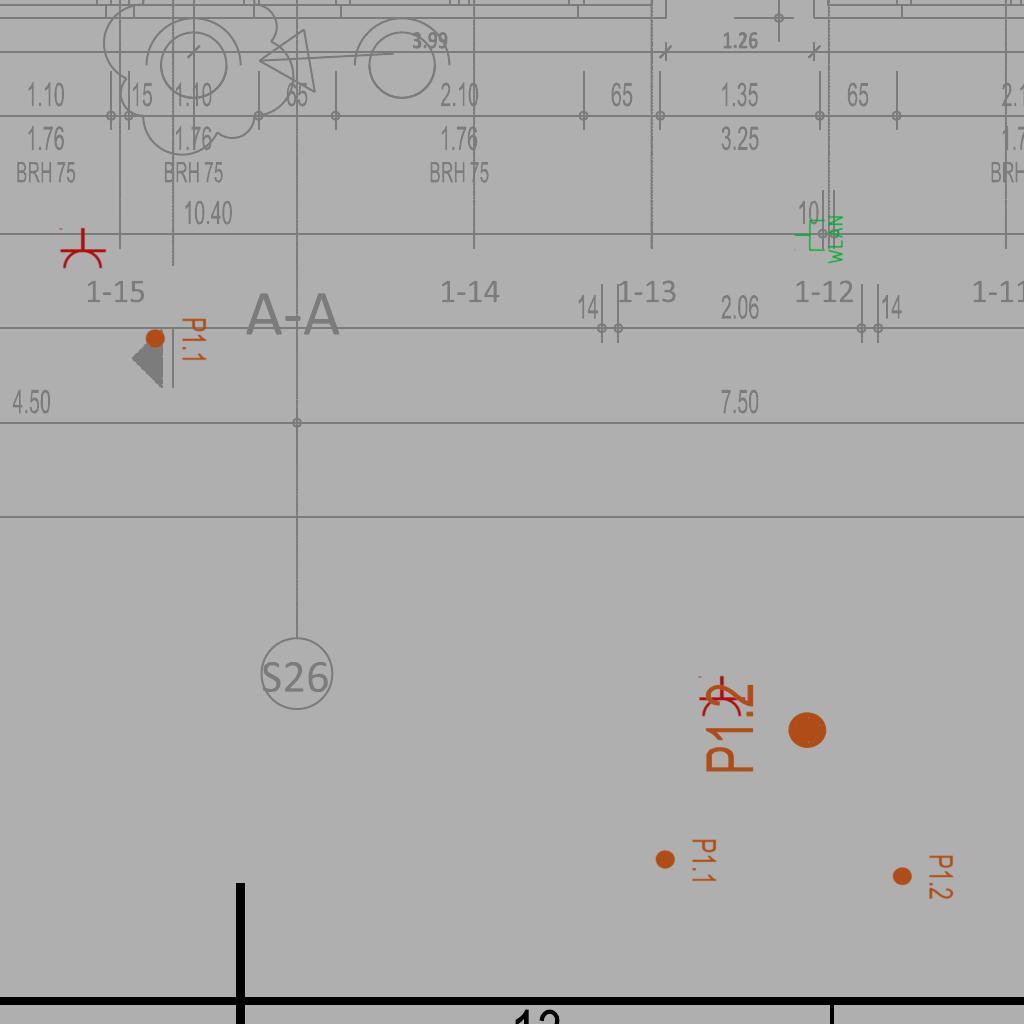Downlight_LED_Einbauleuchten_Flur: (702, 682, 830, 775), (891, 854, 955, 900), (144, 317, 208, 363), (654, 838, 718, 884)
Schukosteckdose_einfach: (57, 227, 107, 270), (696, 675, 746, 718)
WLAN: (793, 214, 845, 266)
